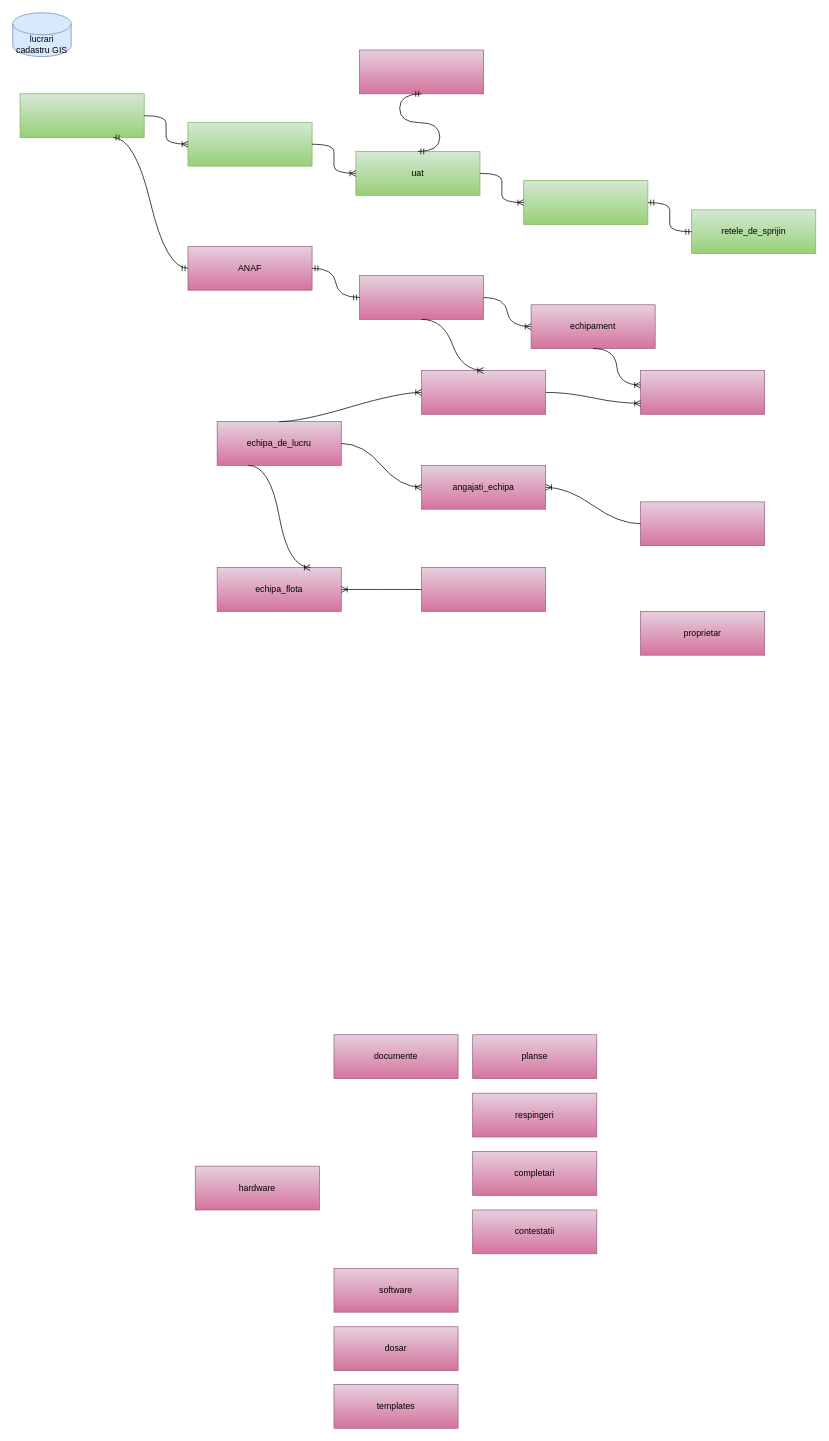
This 829x1441 diagram has some shape labels left out. The shapes that lost their labels are listed below. From the top down, each one's centre as x and y in pixels, then its label:
At (x=421, y=71): "primarie".
At (x=81, y=115): "tara".
At (x=249, y=144): "judet".
At (x=585, y=202): "sectoare_cadastrale".
At (x=421, y=297): "companie".
At (x=483, y=392): "masuratoare".
At (x=702, y=392): "masuratoare_echipamente".
At (x=702, y=523): "angajati".
At (x=483, y=589): "flota".
